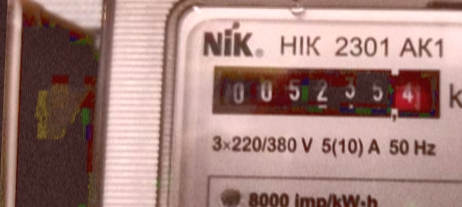0: (229, 79, 245, 104), (258, 78, 274, 102)
2: (313, 76, 330, 103)
3: (340, 74, 358, 100)
4: (398, 76, 417, 106)
5: (368, 74, 385, 103), (286, 76, 301, 101)
screen: (198, 49, 450, 131)
